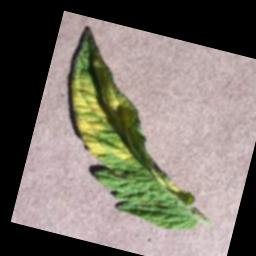Leaf_Mold: (54, 51, 158, 167)
